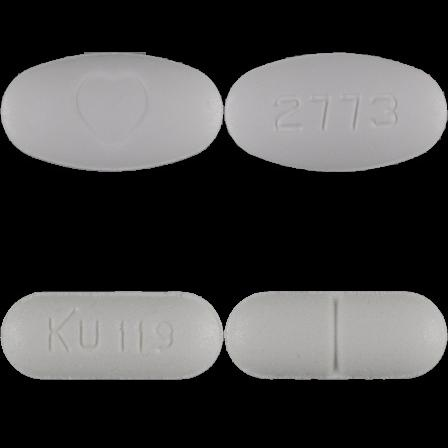54868-4414: (0, 0, 224, 224)
